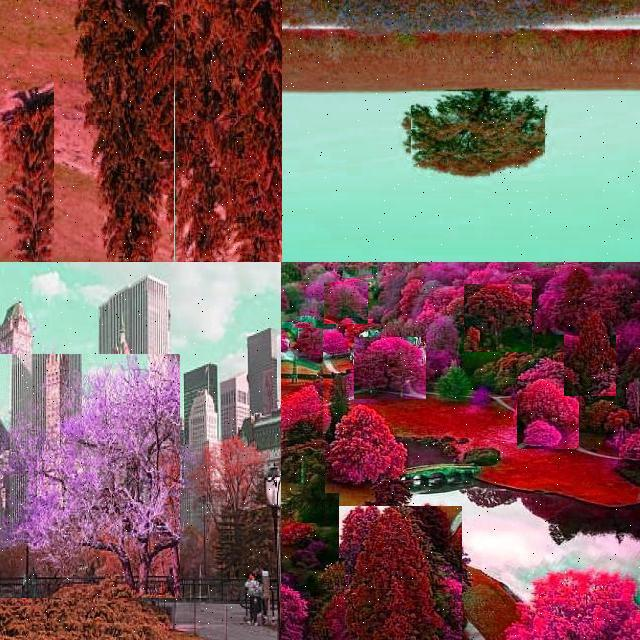tree: (0, 354, 180, 598), (174, 0, 282, 262), (82, 0, 175, 262), (338, 506, 462, 640), (0, 262, 86, 434), (411, 91, 545, 181), (500, 566, 640, 640), (0, 78, 54, 262), (281, 536, 364, 640), (324, 402, 406, 486), (281, 493, 339, 591), (0, 472, 40, 604), (281, 558, 345, 640), (472, 325, 544, 395), (464, 284, 532, 352), (281, 365, 323, 475), (281, 386, 323, 496), (564, 310, 616, 396), (354, 337, 426, 399), (517, 379, 579, 449), (281, 436, 319, 526), (281, 388, 311, 496), (281, 504, 329, 568), (281, 457, 325, 523), (281, 328, 323, 388), (316, 372, 348, 440), (281, 332, 311, 404), (430, 357, 472, 403), (324, 282, 368, 324), (282, 322, 314, 362), (282, 324, 310, 364), (343, 262, 377, 278)
